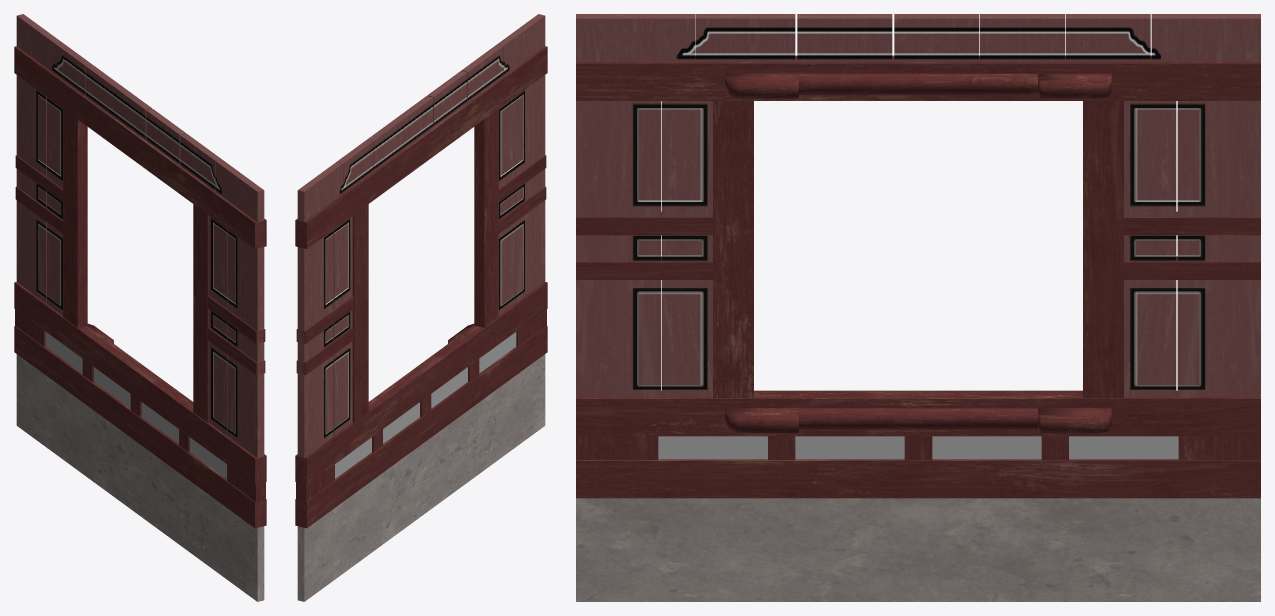
The model's file is SM_Wall03d.fbx.
The picture shows the model from 3 angles, left to right: view 1: azimuth 30°, elevation 25°; view 2: azimuth 150°, elevation 25°; view 3: azimuth 270°, elevation 25°; orthographic projection. The views are drawn at different scales.
Visible parts, largest first — view 1: SM_Wall03d; view 2: SM_Wall03d; view 3: SM_Wall03d.
Boxes of the visible parts, x1=… form: SM_Wall03d: x1=14, y1=14, x2=266, y2=601; SM_Wall03d: x1=295, y1=14, x2=547, y2=601; SM_Wall03d: x1=576, y1=14, x2=1260, y2=601.
Size of the model in its own units: 13.4 by 250 by 235.
4 materials, 3 textured.
